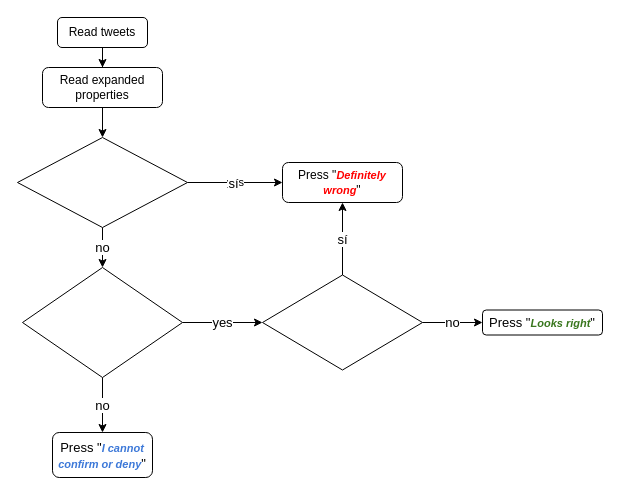
Image size: 620x495. Some labels were removed from this diagram. The shapes that lost their labels are listed below. From the top down, each one's centre as x and y in pixels, then its label:
the point at 102,182: Do you have any evidence that at least one is wrong?
the point at 102,322: Do you have any evidence that at least one is right?
the point at 342,322: Is there any contradiction?
